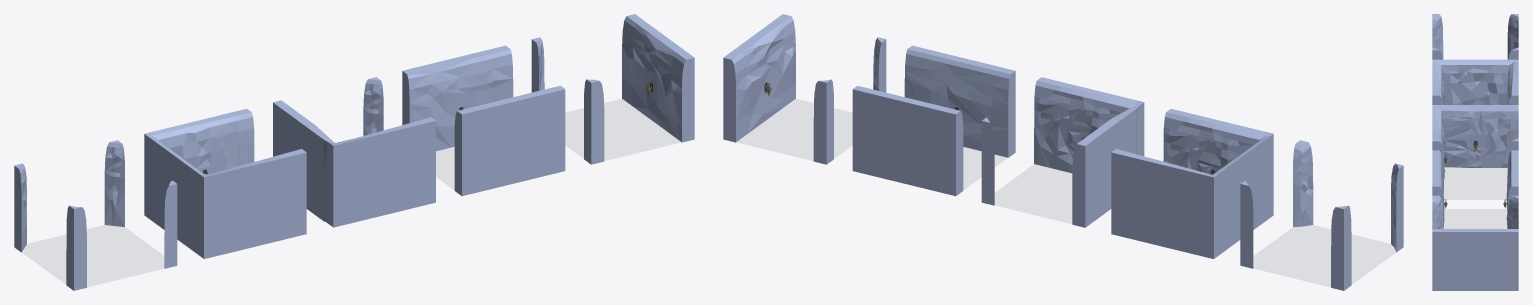
The model's file is labirintus_darabok2.fbx.
3 views of the same model, side by side, from view 1: azimuth 30°, elevation 25°; view 2: azimuth 150°, elevation 25°; view 3: azimuth 270°, elevation 25° (orthographic). The views are drawn at different scales.
Visible parts, largest first — view 1: Plane.003, Cube.005, Plane.066, Cube.011, Plane.054, 4Es_oszto.001, 3AsElOszto, Egyenes.001; view 2: Plane.003, Cube.005, Plane.066, Cube.011, Plane.054, 4Es_oszto.001, 3AsElOszto, 2EsElOszto, Egyenes.001; view 3: Cube.011, Plane.066, Plane.003, 2EsElOszto, Egyenes.001, Cube.005, Plane.054.
Boxes of the visible parts, x1,y1,x2,y2 form: Plane.003: (144, 108, 306, 258); Cube.005: (402, 45, 565, 196); Plane.066: (273, 77, 435, 227); Cube.011: (531, 14, 694, 164); Plane.054: (14, 140, 177, 290); 4Es_oszto.001: (22, 225, 164, 287); 3AsElOszto: (565, 98, 681, 161); Egyenes.001: (436, 147, 454, 190); Plane.003: (1111, 108, 1273, 258); Cube.005: (852, 45, 1015, 196); Plane.066: (981, 77, 1144, 227); Cube.011: (723, 14, 886, 164); Plane.054: (1240, 140, 1403, 290); 4Es_oszto.001: (1253, 225, 1396, 287); 3AsElOszto: (736, 98, 852, 161); 2EsElOszto: (994, 164, 1072, 224); Egyenes.001: (963, 147, 1007, 190); Cube.011: (1432, 195, 1518, 290); Plane.066: (1432, 105, 1518, 184); Plane.003: (1432, 59, 1518, 104); 2EsElOszto: (1443, 167, 1507, 199); Egyenes.001: (1443, 209, 1507, 228); Cube.005: (1432, 150, 1518, 228); Plane.054: (1432, 14, 1518, 59).
Bounding box in the file's own units: 4800 × 604 × 800.
